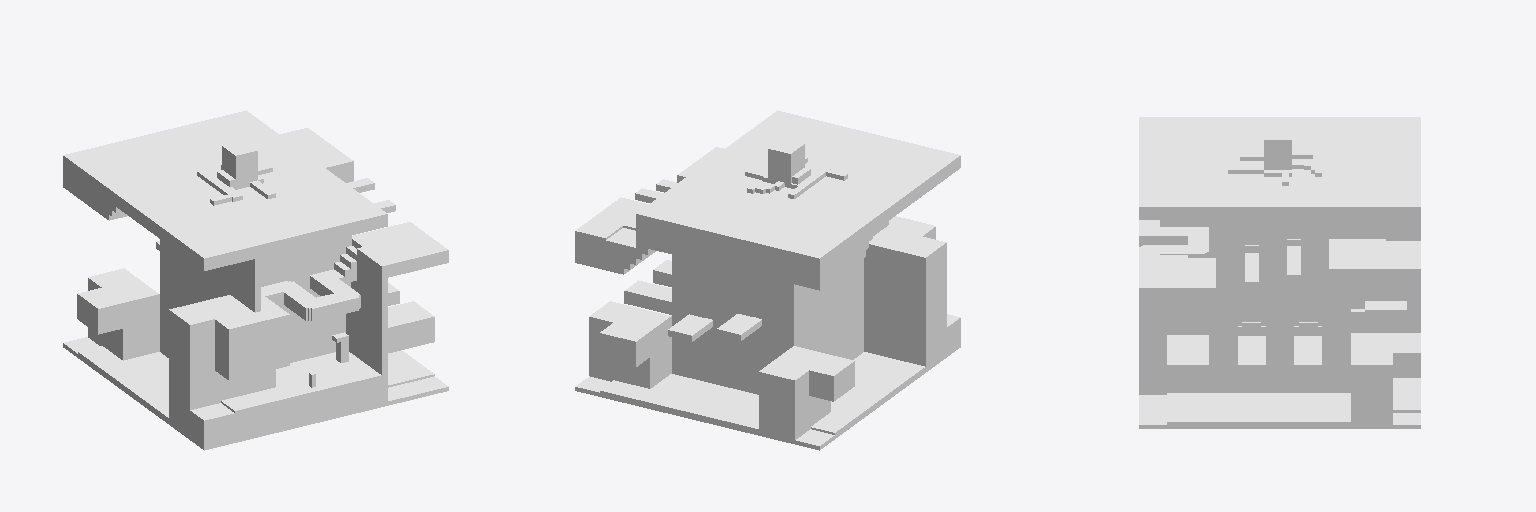
The model's file is hitbox.obj.
The picture shows the model from 3 angles: view 1: azimuth 30°, elevation 25°; view 2: azimuth 150°, elevation 25°; view 3: azimuth 270°, elevation 25°; orthographic projection.
Parts seen in each view (by area): view 1: hitbox; view 2: hitbox; view 3: hitbox.
Part boxes in pixels (x1,y1,x2,y2): hitbox: (63,110,448,450); hitbox: (575,110,960,450); hitbox: (1139,117,1420,428).
Bounding box in the file's own units: 120 × 106 × 120.